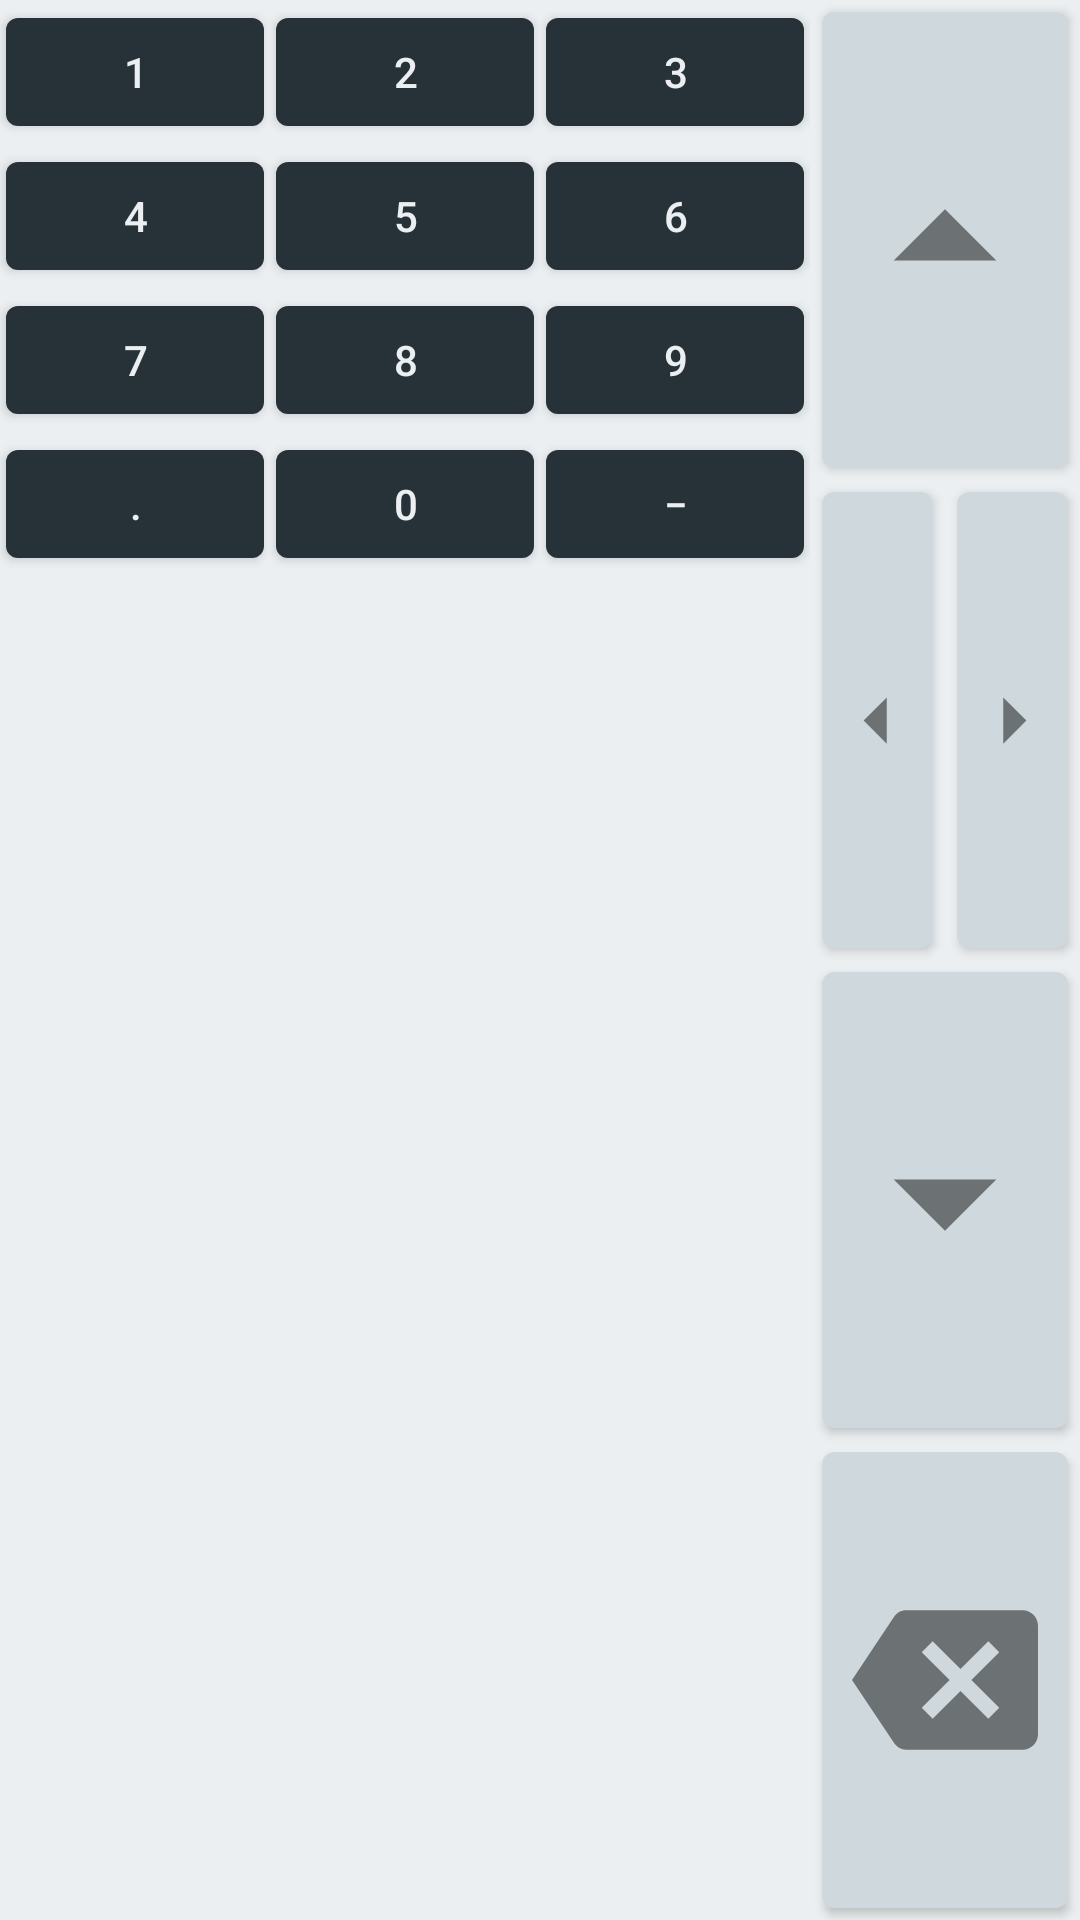

Named icons in this screenshot (1080px x 1920px) and their bounding boxes, box=[x1, y1, x2, y2]:
Move Focus UP: box=[893, 209, 997, 261]
